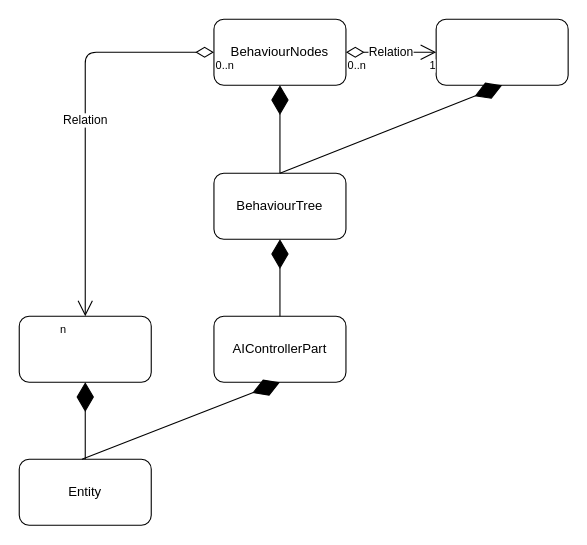
Some shapes in this 587 by 545 pixel diagram are drawn without their labels. The centre of each missing label's shape, as x and y in pixels:
"BlackBoard" goes at (x=501, y=51).
"Parts" goes at (x=84, y=348).
